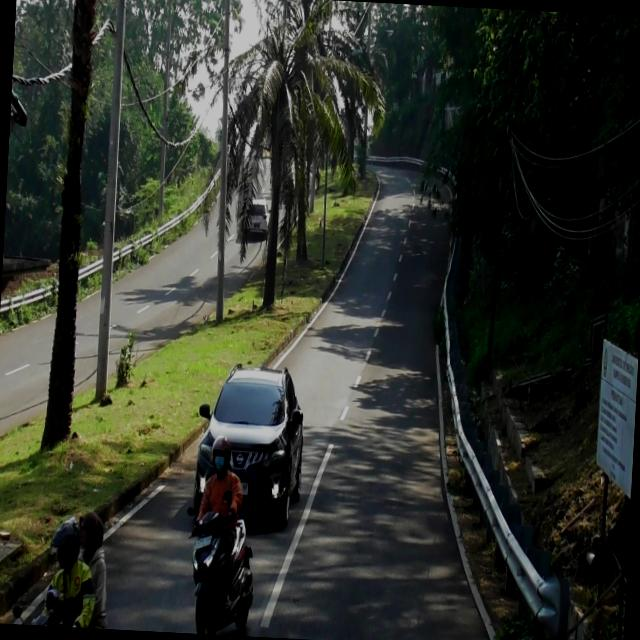motorcycle: (182, 488, 259, 630)
person: (190, 438, 245, 600), (36, 513, 98, 627), (74, 510, 112, 628)
rider_region: (179, 440, 262, 637)
